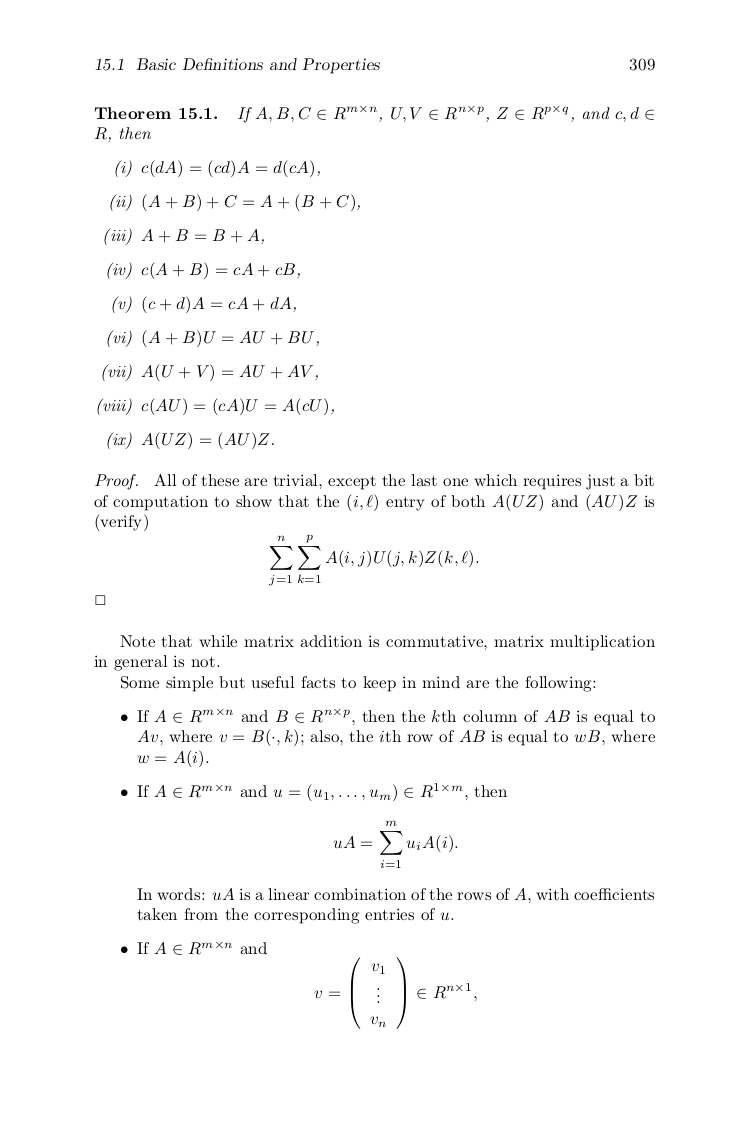formula: (314, 957, 476, 1028), (269, 534, 478, 585), (333, 820, 457, 867), (110, 193, 359, 212), (97, 397, 333, 416), (102, 363, 317, 382), (107, 329, 318, 348), (115, 159, 319, 178), (107, 261, 299, 280), (112, 295, 295, 314), (107, 431, 273, 450), (104, 227, 263, 246)
